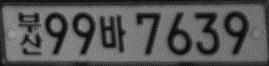3: (194, 11, 220, 55)
6: (167, 11, 192, 55)
7: (135, 11, 161, 55)
9: (223, 10, 249, 54), (44, 11, 68, 55), (72, 11, 96, 55)
바: (100, 13, 125, 52)
부산_V: (17, 11, 43, 56)
